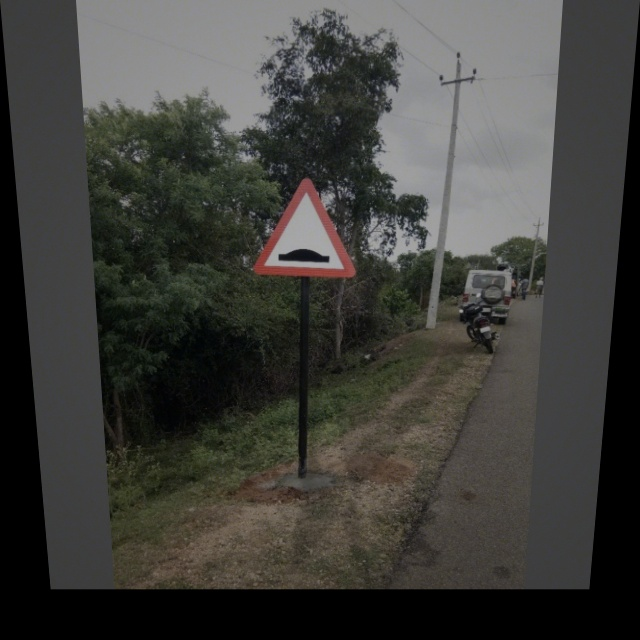Dangerous_Dip: (250, 179, 358, 277)
